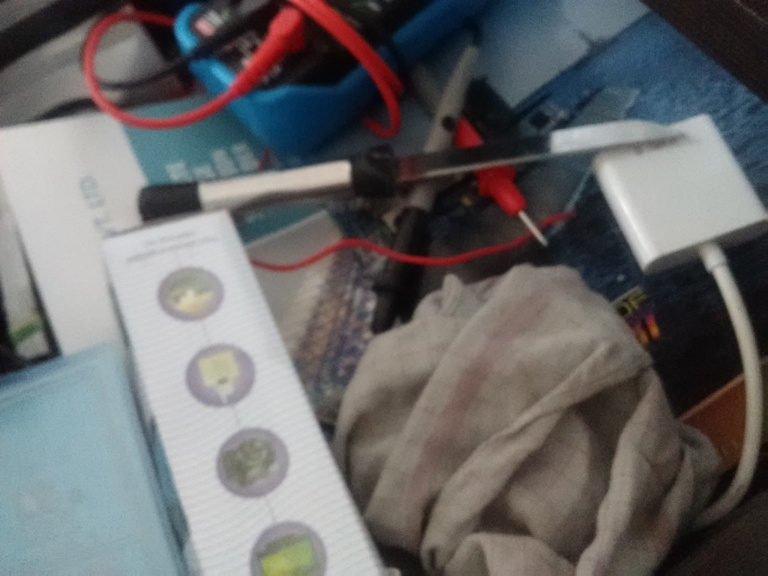knife: (137, 118, 681, 221)
